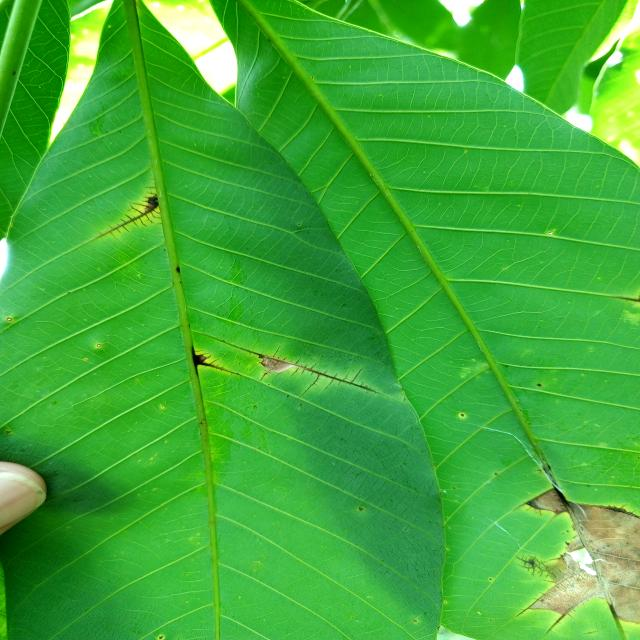Colletotrichum: (359, 507, 363, 511), (159, 636, 163, 639), (537, 384, 541, 386), (461, 414, 464, 416), (414, 620, 416, 622)
Corynespora: (98, 186, 160, 238), (290, 358, 374, 396), (191, 344, 234, 376), (511, 488, 553, 516), (517, 554, 558, 580), (516, 594, 544, 618), (546, 610, 573, 633), (599, 505, 640, 519), (260, 370, 269, 381)
Leaf-Blight: (530, 502, 640, 625), (534, 490, 566, 513), (260, 356, 296, 373)
